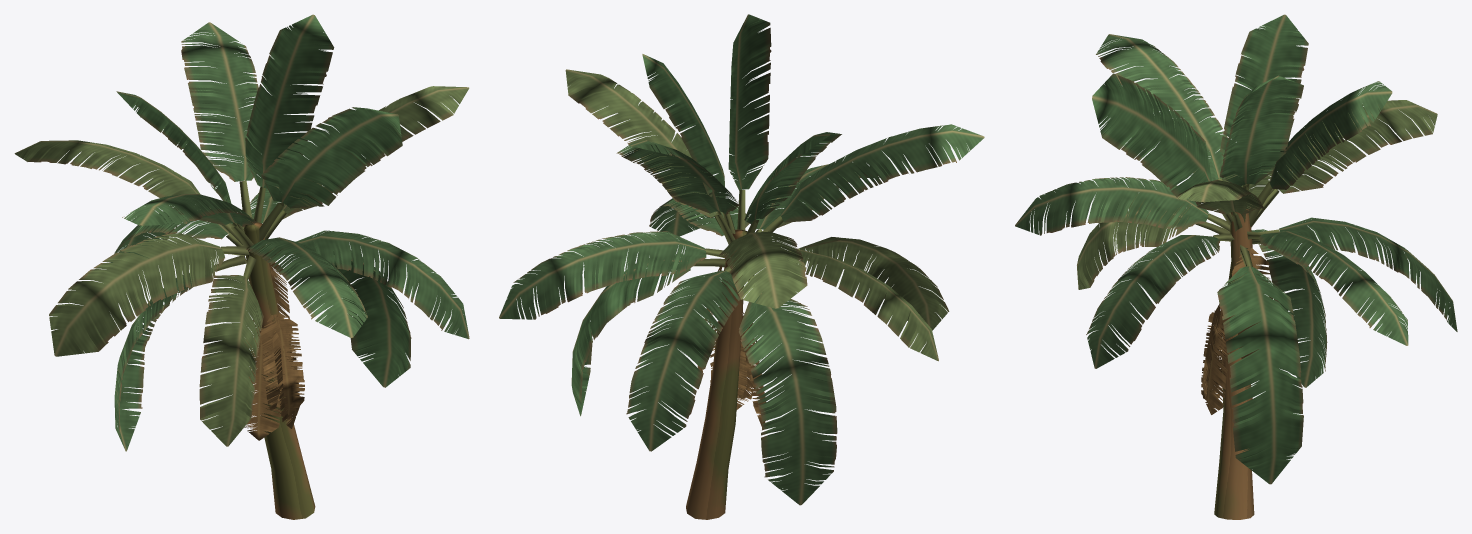
The model's file is mm6_deco_cac19.glb.
3 views of the same model, side by side, from view 1: azimuth 30°, elevation 25°; view 2: azimuth 150°, elevation 25°; view 3: azimuth 270°, elevation 25° (orthographic). The views are drawn at different scales.
Parts seen in each view (by area): view 1: Plant; view 2: Plant; view 3: Plant.
Boxes of the visible parts, <box> form: Plant: <box>14,14,469,519</box>; Plant: <box>499,14,984,519</box>; Plant: <box>1015,14,1457,519</box>.
Bounding box in the file's own units: 1.59 × 1.8 × 1.58.
Materials: 2 (2 with a texture image).
